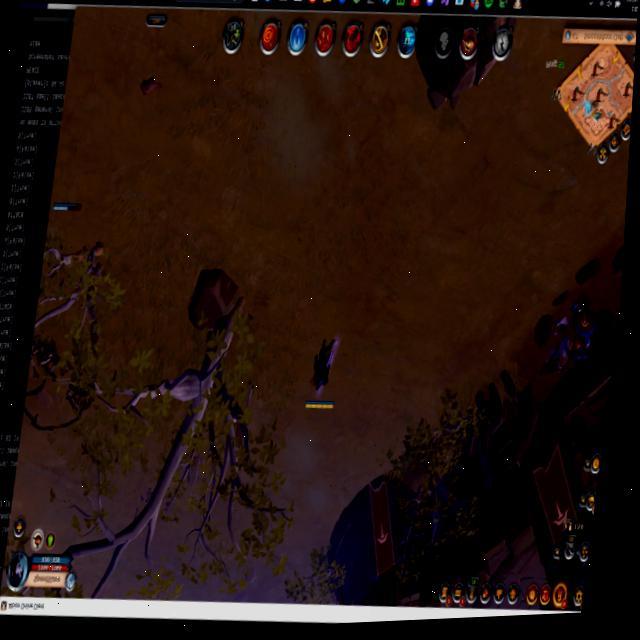mob: (537, 308, 579, 383)
red: (302, 329, 344, 414), (49, 198, 82, 217)
